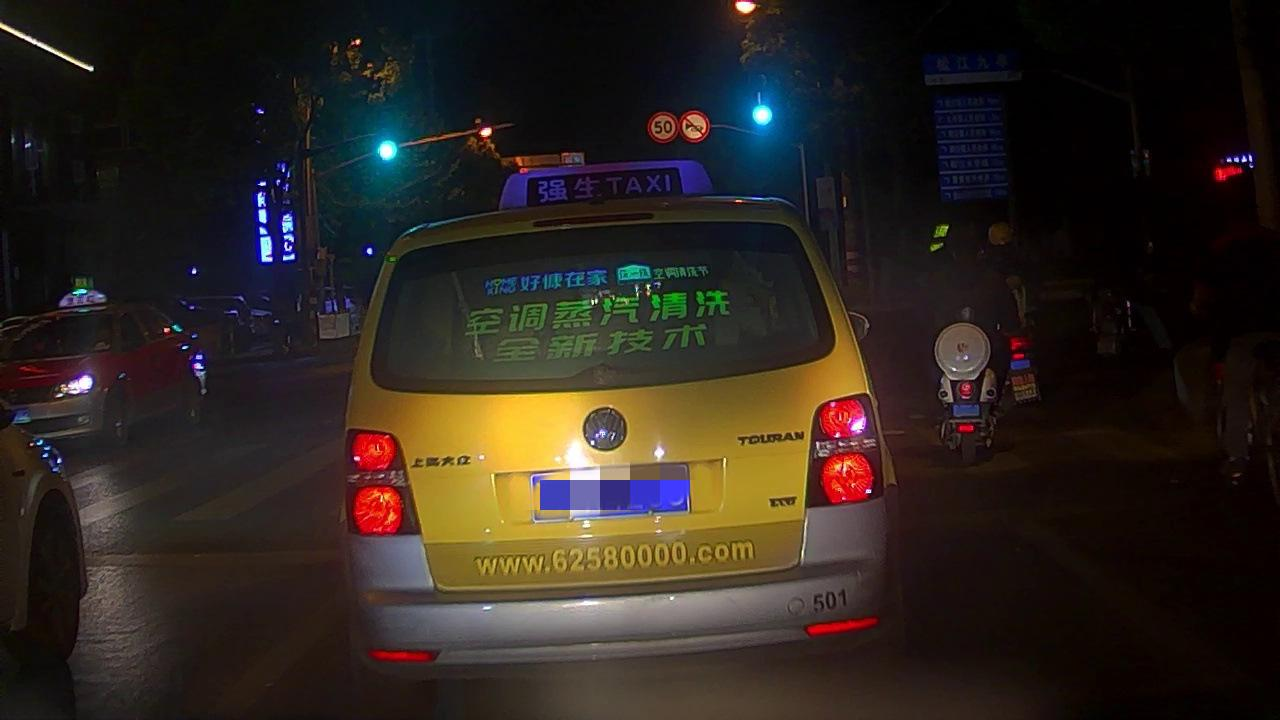traffic_light: (373, 134, 402, 165), (748, 100, 779, 129)
